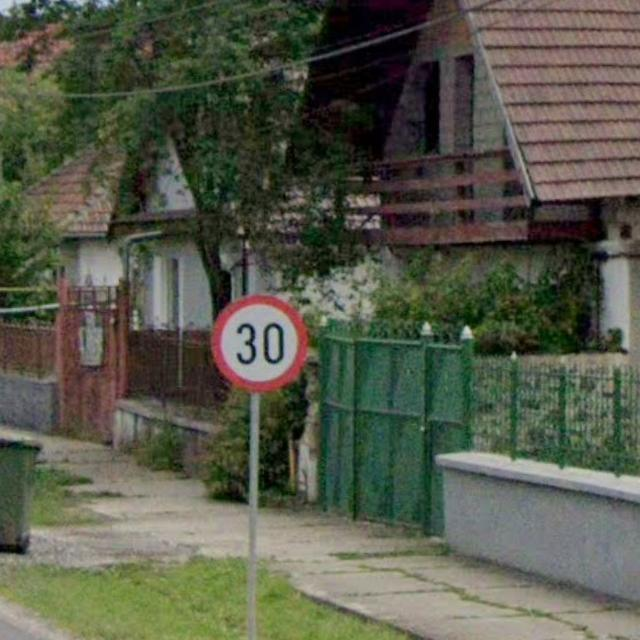forb_speed_over_30: (209, 297, 309, 392)
